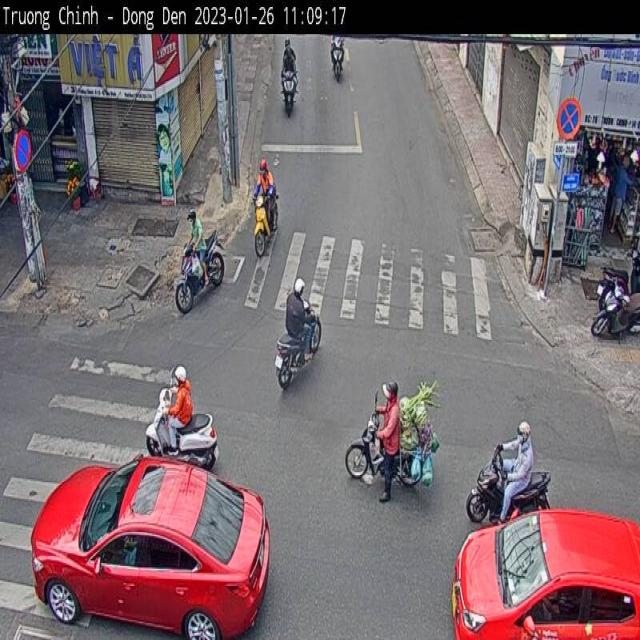helmet: (513, 417, 539, 471), (171, 364, 194, 401), (294, 272, 308, 316), (254, 151, 268, 190), (378, 373, 398, 400), (190, 207, 203, 228), (284, 34, 294, 61)
